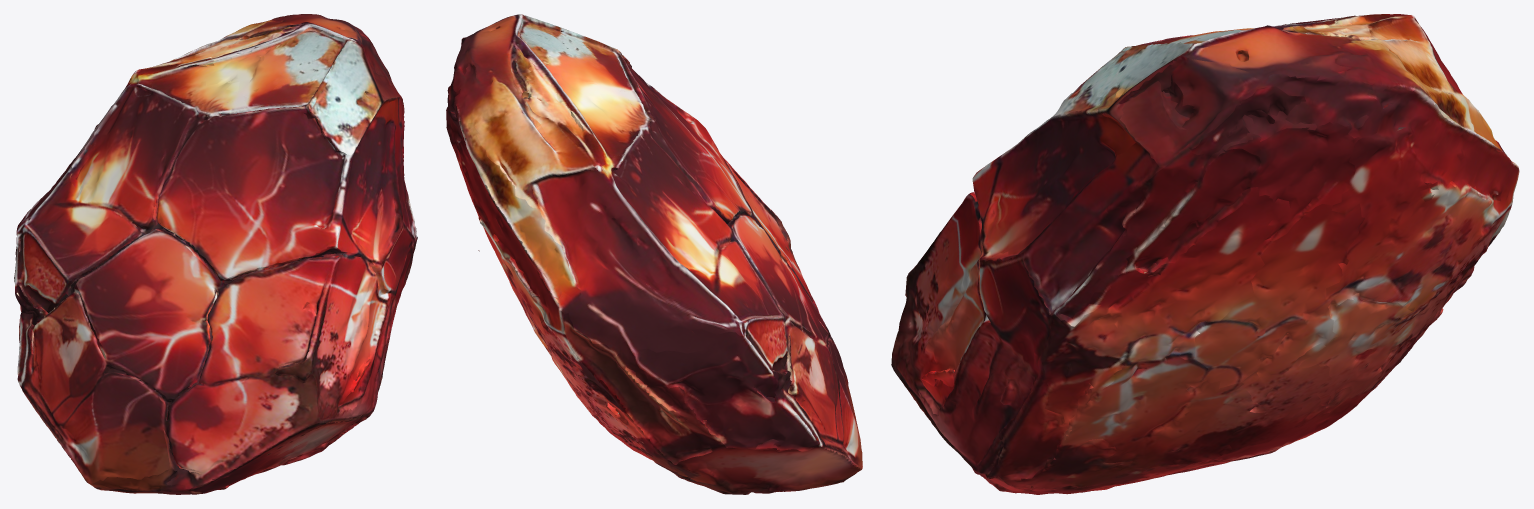
File: equipment_material_0.glb
The picture shows the model from 3 angles, left to right: view 1: azimuth 30°, elevation 25°; view 2: azimuth 150°, elevation 25°; view 3: azimuth 270°, elevation 25°; orthographic projection. The views are drawn at different scales.
Visible parts, largest first — view 1: tmpykygacbj.ply; view 2: tmpykygacbj.ply; view 3: tmpykygacbj.ply.
Part boxes in pixels (x1=…): tmpykygacbj.ply: x1=14, y1=14, x2=417, y2=494; tmpykygacbj.ply: x1=446, y1=14, x2=862, y2=494; tmpykygacbj.ply: x1=891, y1=14, x2=1519, y2=494.
Size of the model in its own units: 1.89 by 1.99 by 1.99.
Materials: 1 (1 with a texture image).
